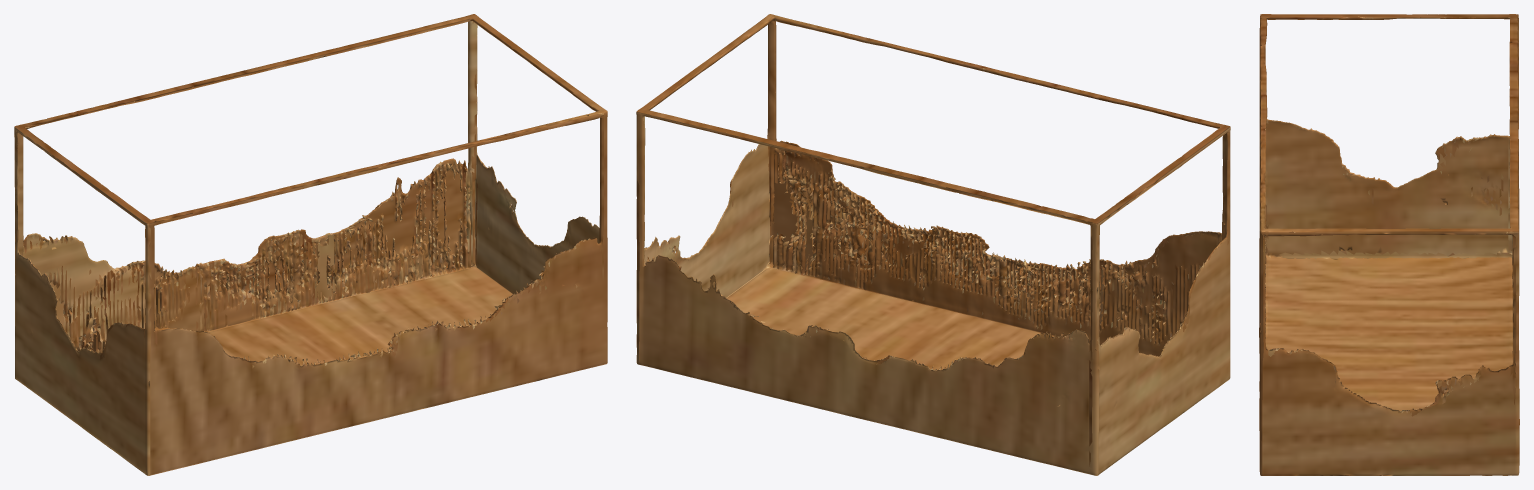
The model's file is pecera.obj.
The picture shows the model from 3 angles, left to right: view 1: azimuth 30°, elevation 25°; view 2: azimuth 150°, elevation 25°; view 3: azimuth 270°, elevation 25°; orthographic projection. The views are drawn at different scales.
Visible parts, largest first — view 1: Mesh_0_Material_0; view 2: Mesh_0_Material_0; view 3: Mesh_0_Material_0.
Part boxes in pixels (x1=…): Mesh_0_Material_0: x1=14, y1=14, x2=607, y2=475; Mesh_0_Material_0: x1=636, y1=14, x2=1230, y2=475; Mesh_0_Material_0: x1=1259, y1=14, x2=1519, y2=475.
Bounding box in the file's own units: 9.93 × 5.21 × 5.01.
